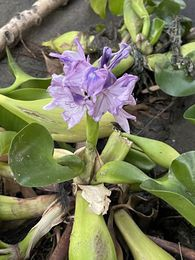water_hyacinth: (11, 31, 195, 260)
